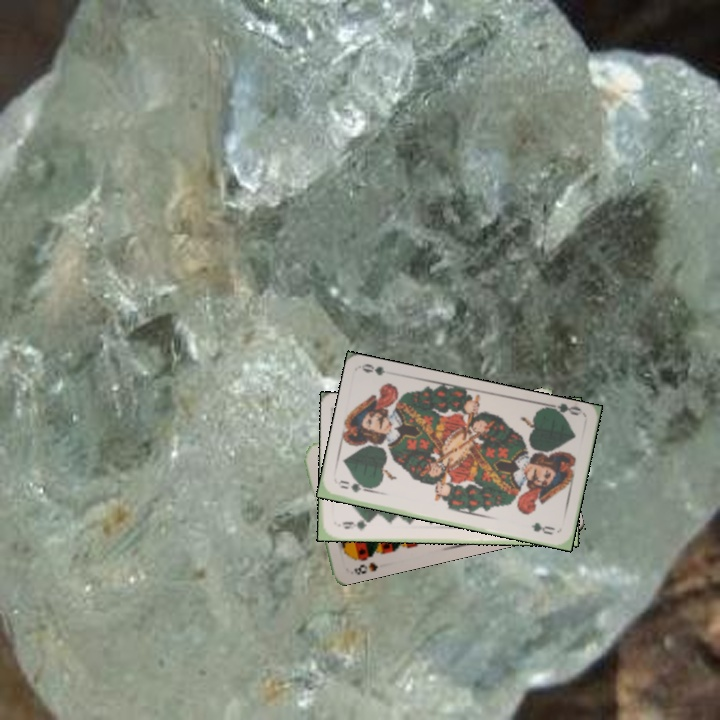G9: (338, 517, 373, 533)
GO: (543, 400, 584, 422), (337, 480, 375, 495)
S8: (350, 558, 380, 578)
